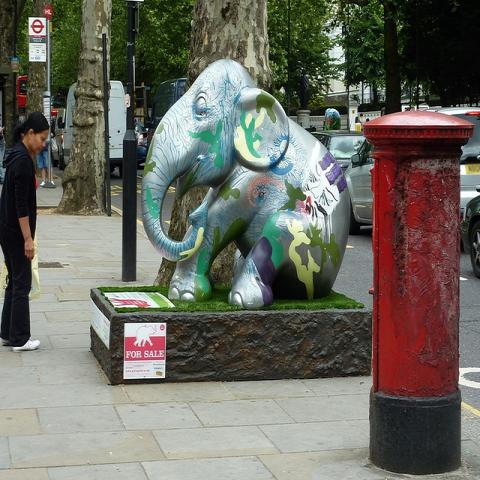car: (342, 105, 479, 237), (309, 129, 364, 172), (462, 185, 480, 280), (52, 109, 66, 166), (135, 122, 148, 162)
truck: (55, 80, 131, 177), (146, 78, 188, 157)
